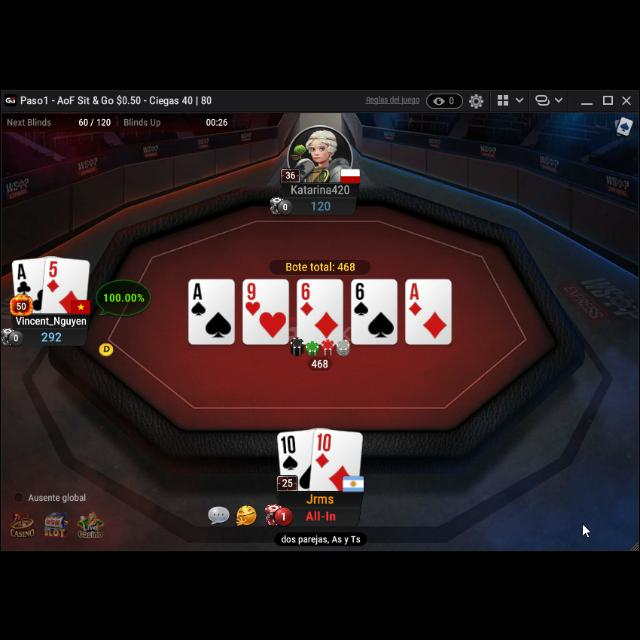5d: (46, 256, 62, 292)
6d: (299, 282, 313, 316)
6s: (352, 280, 370, 316)
9h: (244, 280, 262, 318)
Ac: (14, 261, 32, 295)
Ad: (407, 279, 423, 315), (407, 280, 423, 314)
As: (190, 281, 208, 317)
Td: (315, 431, 331, 469)
Ts: (280, 433, 298, 469)
all_in_symbol: (304, 508, 338, 522)
bet_text: (310, 356, 330, 368)
dealer: (97, 338, 115, 356)
pot_text: (284, 260, 358, 272)
stack_text: (310, 199, 332, 213), (41, 330, 64, 342)
